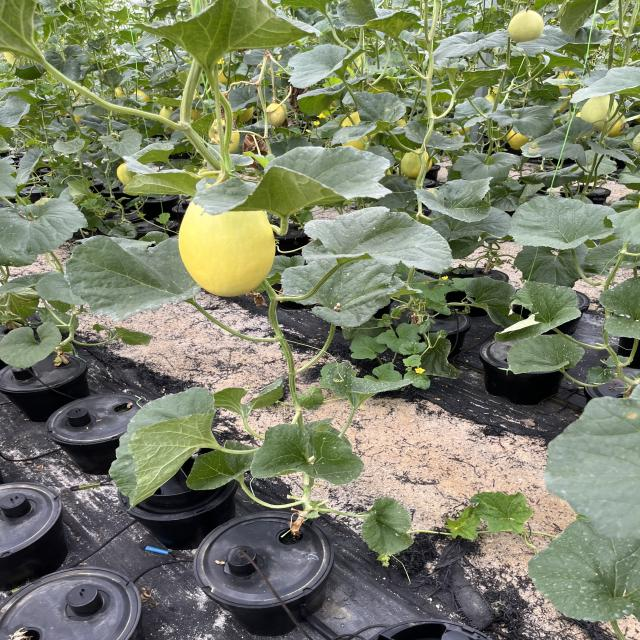bacterial wilt: (240, 133, 269, 168)
downy mildew: (336, 0, 422, 42)
healthy: (198, 146, 389, 218), (131, 0, 325, 67), (288, 44, 364, 89), (504, 334, 586, 374), (516, 26, 613, 59), (0, 324, 63, 368), (568, 66, 640, 104), (469, 491, 534, 533), (534, 118, 596, 161), (452, 152, 522, 188), (432, 31, 508, 62), (376, 322, 426, 354), (349, 334, 389, 360)
powdery mildew: (109, 387, 216, 509), (525, 518, 640, 622), (71, 235, 203, 322), (302, 206, 452, 274), (280, 258, 423, 328), (250, 424, 364, 485), (0, 198, 88, 267), (508, 197, 616, 250), (494, 282, 582, 342), (327, 361, 415, 409), (331, 91, 406, 146), (413, 176, 493, 222), (186, 440, 259, 490), (465, 276, 527, 329), (361, 497, 412, 555), (214, 377, 283, 419), (599, 277, 640, 340)
